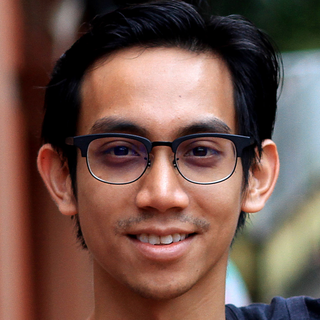eye: (100, 141, 145, 164), (180, 141, 222, 165)
